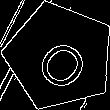O_NE: (26, 23, 93, 90)
